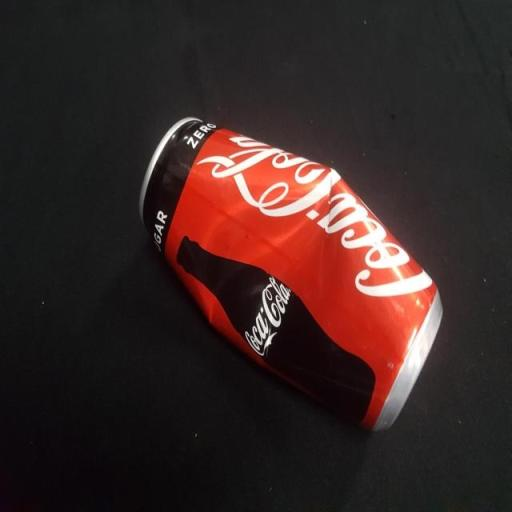metal: (128, 102, 462, 447)
